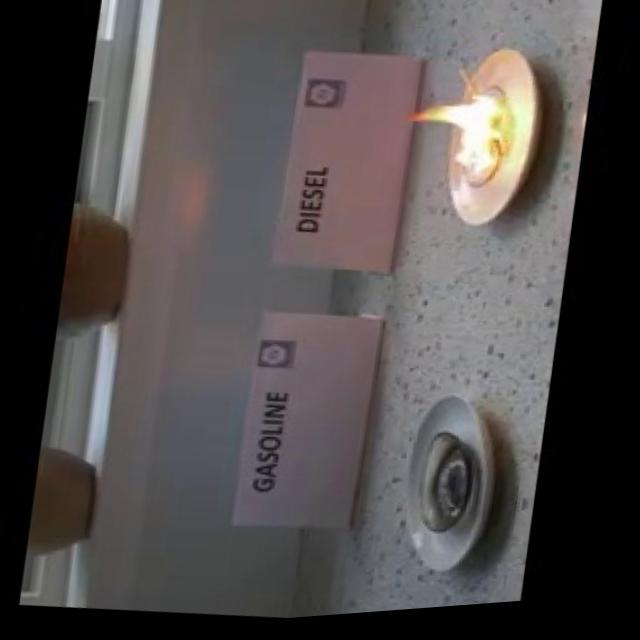Fire: (359, 85, 513, 191)
